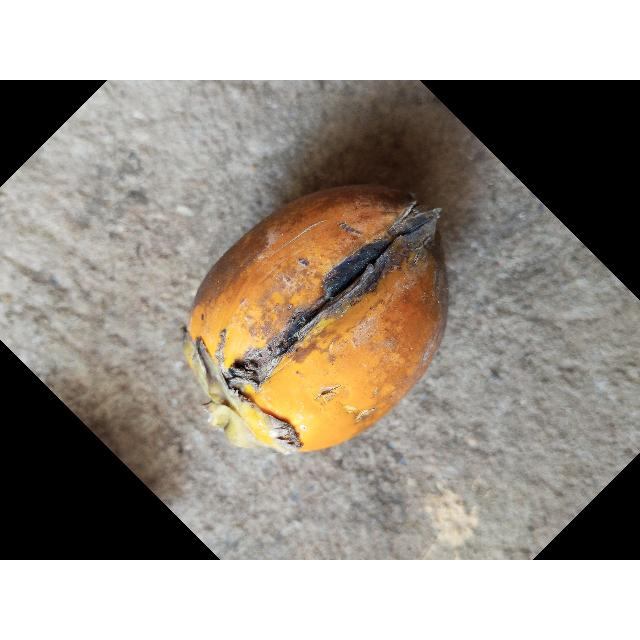damaged: (185, 185, 447, 454)
